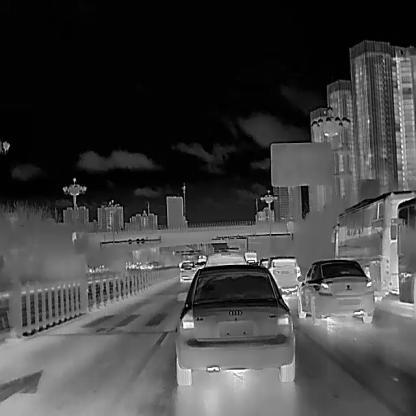car: (174, 262, 295, 386), (330, 189, 416, 302), (297, 258, 374, 324), (389, 191, 415, 304), (265, 256, 302, 292), (205, 251, 246, 267), (178, 261, 198, 282), (243, 248, 257, 264)
